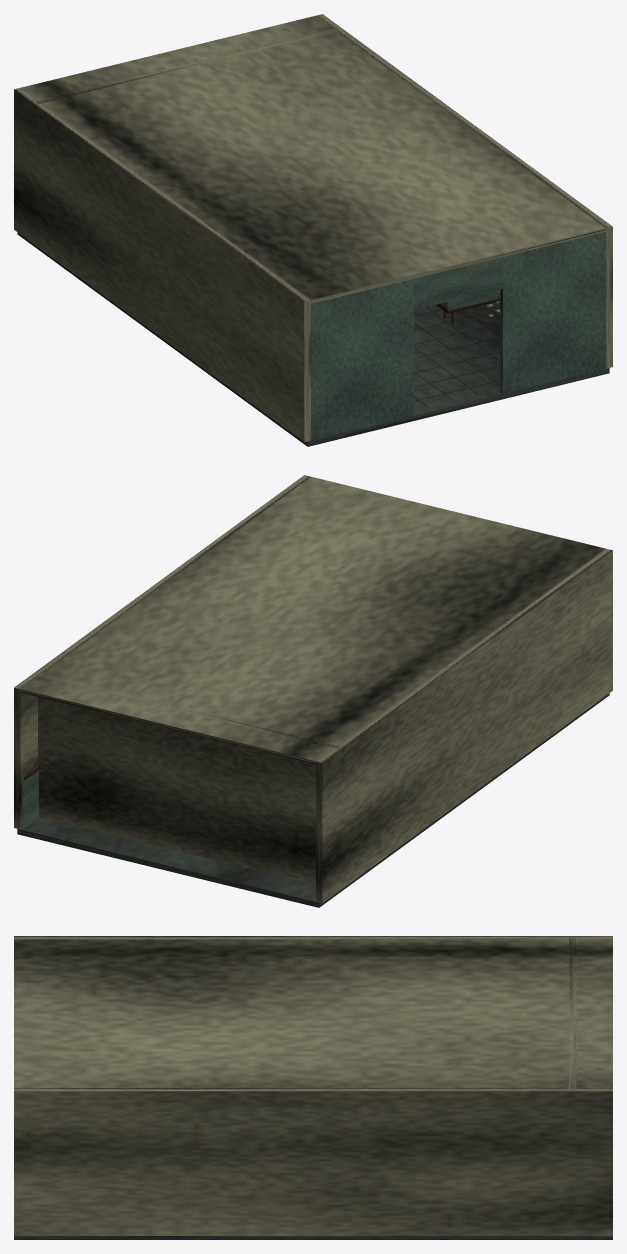
The model's file is exit-lobby.glb.
3 renders of one model, top to bottom at view 1: azimuth 30°, elevation 25°; view 2: azimuth 150°, elevation 25°; view 3: azimuth 270°, elevation 25°, orthographic. The views are drawn at different scales.
Visible parts, largest first — view 1: static-154-asylum plaster, static-17-asylum paint, static-1-asylum stone, static-120-asylum dark; view 2: static-154-asylum plaster, static-1-asylum stone, static-17-asylum paint; view 3: static-154-asylum plaster, static-1-asylum stone.
Boxes of the visible parts, x1,y1,x2,y2 form: static-154-asylum plaster: (14, 14, 612, 442); static-17-asylum paint: (311, 232, 606, 440); static-1-asylum stone: (17, 232, 609, 446); static-120-asylum dark: (414, 303, 500, 407); static-154-asylum plaster: (14, 475, 612, 903); static-1-asylum stone: (17, 693, 609, 907); static-17-asylum paint: (21, 766, 38, 829); static-154-asylum plaster: (14, 936, 612, 1235); static-1-asylum stone: (14, 1236, 612, 1239).
Bounding box in the file's own units: 9.2 × 4.16 × 15.
15 materials, 11 textured.
